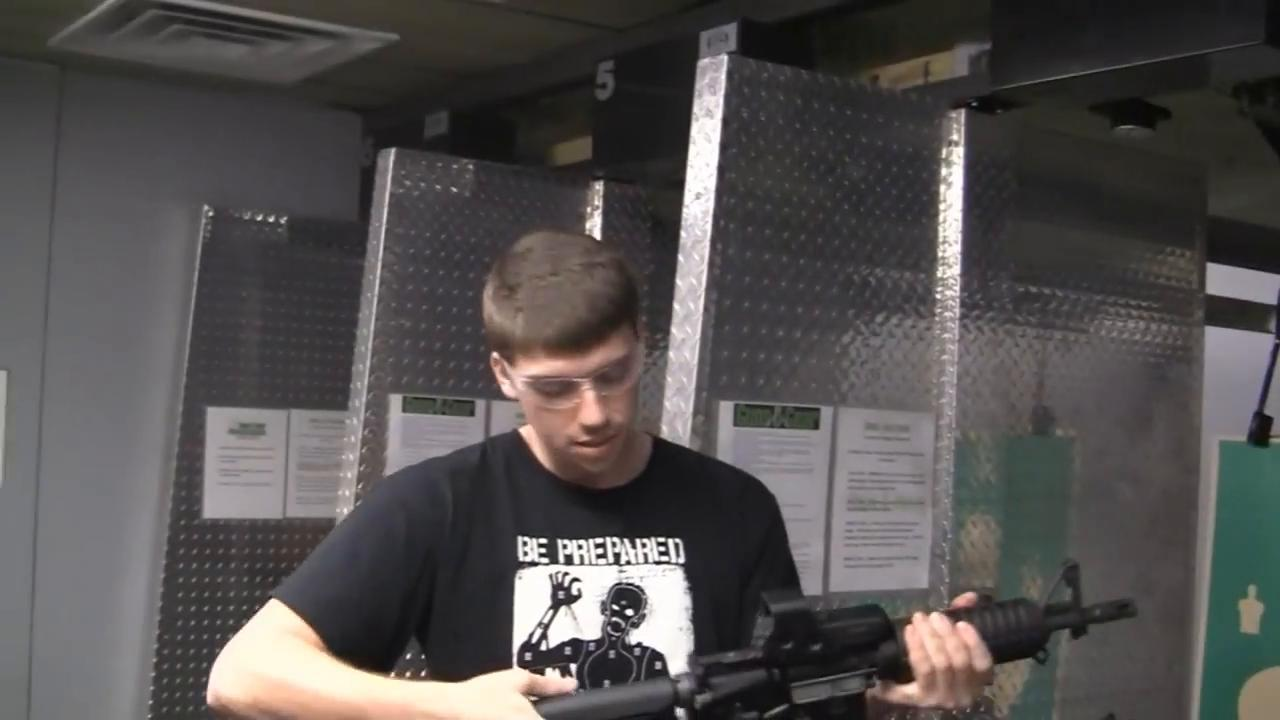M4 Rifle: (531, 563, 1135, 717)
